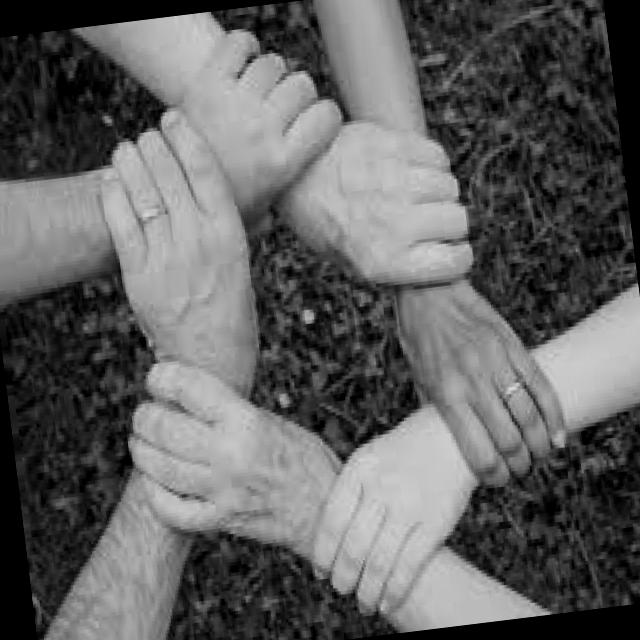Hand: (86, 98, 269, 400), (153, 15, 360, 252), (112, 341, 328, 563), (392, 266, 582, 504), (266, 104, 482, 302), (292, 408, 473, 628)
